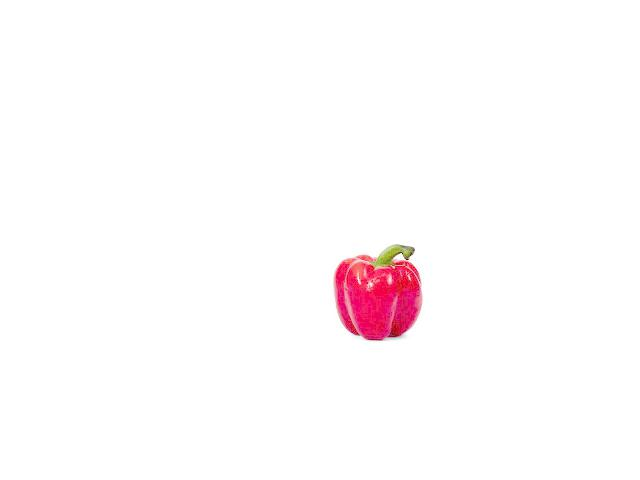bell_pepper: (328, 242, 424, 339)
